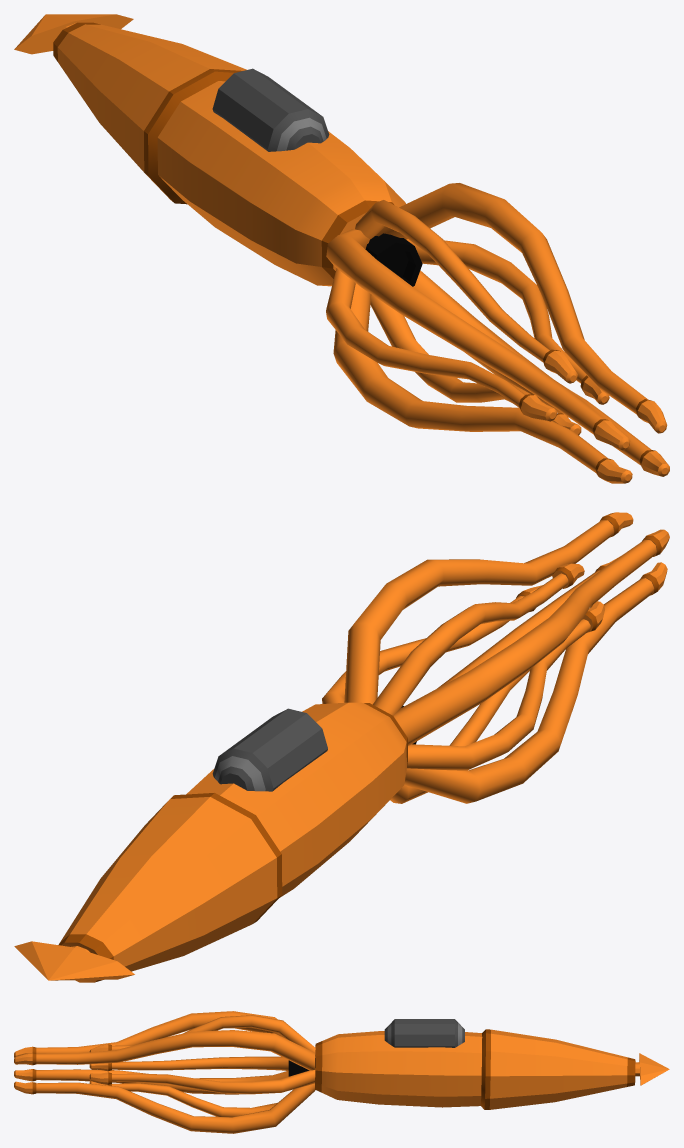
The model's file is Kraken.fbx.
3 views of the same model, one above another, from view 1: azimuth 30°, elevation 25°; view 2: azimuth 150°, elevation 25°; view 3: azimuth 270°, elevation 25° (orthographic). The views are drawn at different scales.
Visible parts, largest first — view 1: Kraken_full; view 2: Kraken_full; view 3: Kraken_full.
Boxes of the visible parts, <box> form: Kraken_full: <box>14,14,669,483</box>; Kraken_full: <box>14,512,669,982</box>; Kraken_full: <box>14,1011,669,1133</box>.
Bounding box in the file's own units: 40.83 × 40.83 × 239.
